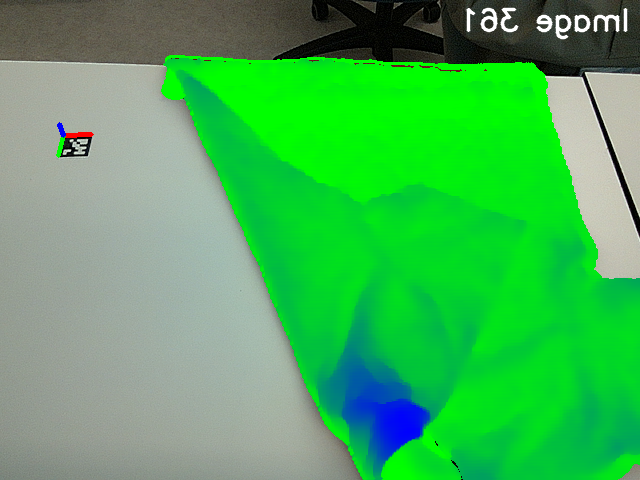V: (490, 200, 542, 252), (398, 172, 445, 215)
